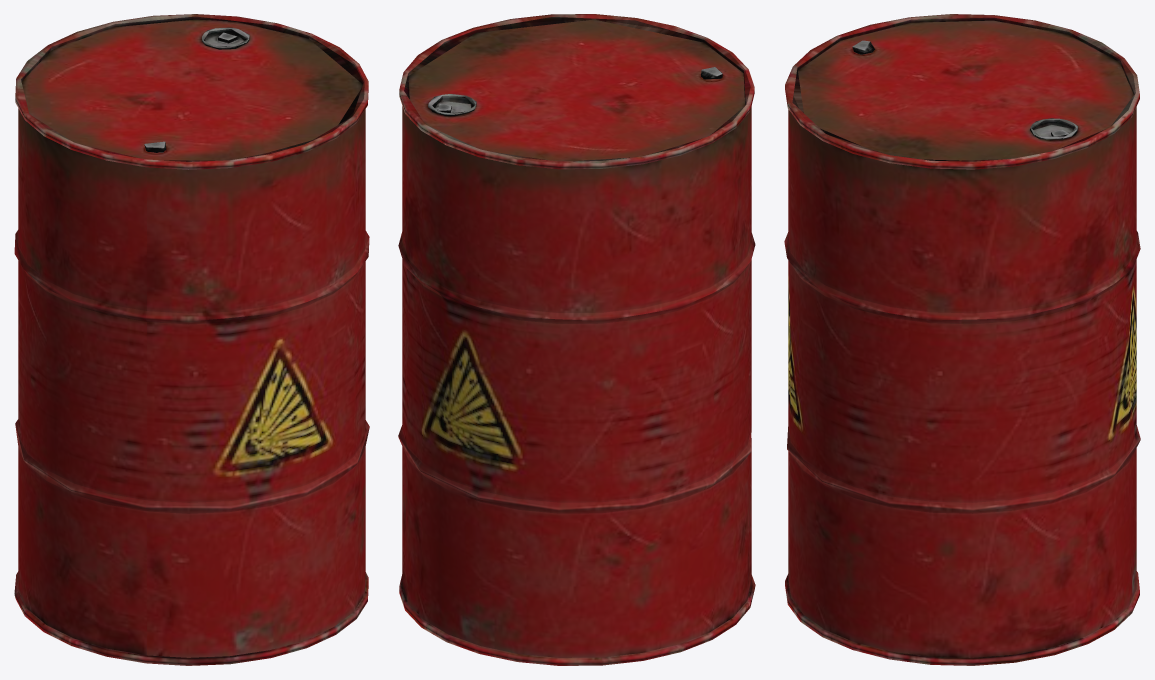
The model's file is Barrel_01.glb.
3 views of the same model, side by side, from view 1: azimuth 30°, elevation 25°; view 2: azimuth 150°, elevation 25°; view 3: azimuth 270°, elevation 25° (orthographic).
Visible parts, largest first — view 1: Barrel_01; view 2: Barrel_01; view 3: Barrel_01.
Part boxes in pixels (x1=…): Barrel_01: x1=14, y1=14, x2=369, y2=665; Barrel_01: x1=398, y1=14, x2=755, y2=665; Barrel_01: x1=784, y1=14, x2=1140, y2=665.
Size of the model in its own units: 0.5629 by 0.8789 by 0.5627.
Materials: 1 (1 with a texture image).
